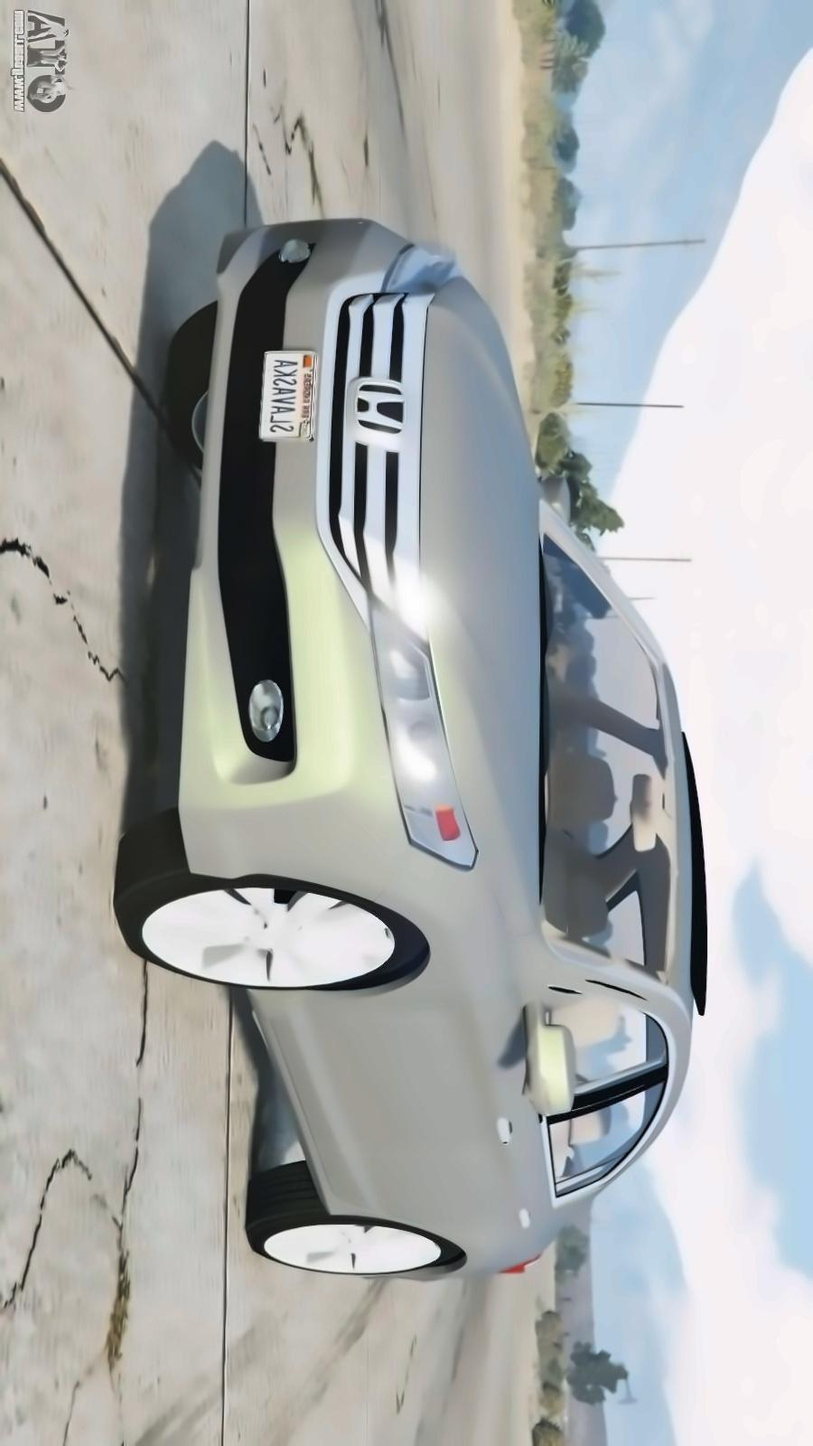Car hood: (407, 265, 567, 939)
Fender - -F-L-: (145, 832, 635, 1046)
Front bumper: (163, 195, 440, 925)
Headlight - -L-: (366, 594, 487, 873)
Headlight - -R-: (377, 237, 468, 299)
Passenger-s door - -F-L-: (228, 929, 714, 1158)
Passenger-s door - -R-L-: (276, 1051, 703, 1269)
Side bumper - -L-: (213, 963, 384, 1228)
Side mirror - -L-: (515, 1003, 583, 1138)
